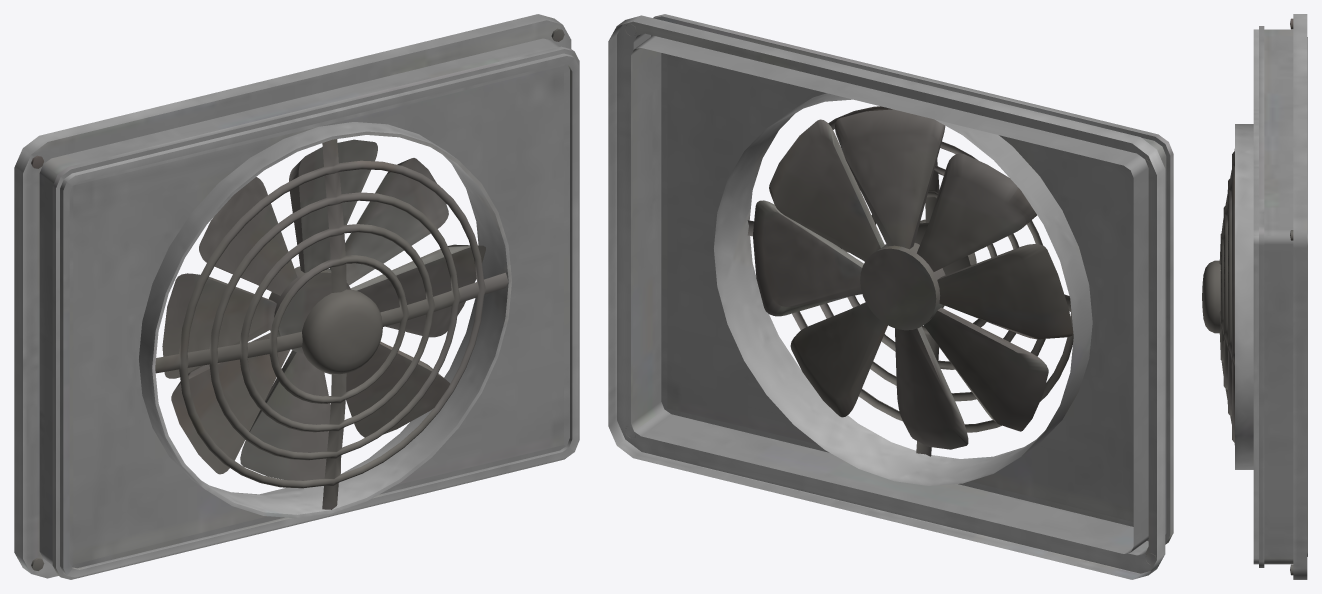
Rendered from rectangular_vent_fan.gltf.
3 views of the same model, side by side, from view 1: azimuth 30°, elevation 25°; view 2: azimuth 150°, elevation 25°; view 3: azimuth 270°, elevation 25° (orthographic). The views are drawn at different scales.
Visible parts, largest first — view 1: rectangular_vent_fan; view 2: rectangular_vent_fan; view 3: rectangular_vent_fan.
Boxes of the visible parts, x1,y1,x2,y2 form: rectangular_vent_fan: (14,14,579,579); rectangular_vent_fan: (608,14,1173,579); rectangular_vent_fan: (1202,14,1307,579).
Bounding box in the file's own units: 0.5521 × 0.42 × 0.1108.
Materials: 1 (1 with a texture image).
